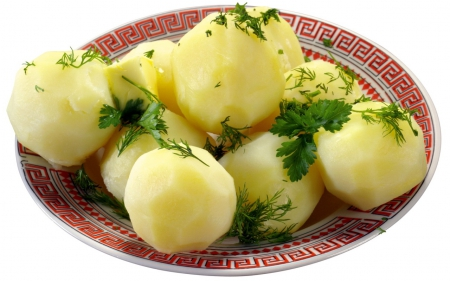boiled potatoes: (24, 29, 424, 240), (181, 13, 289, 122)
